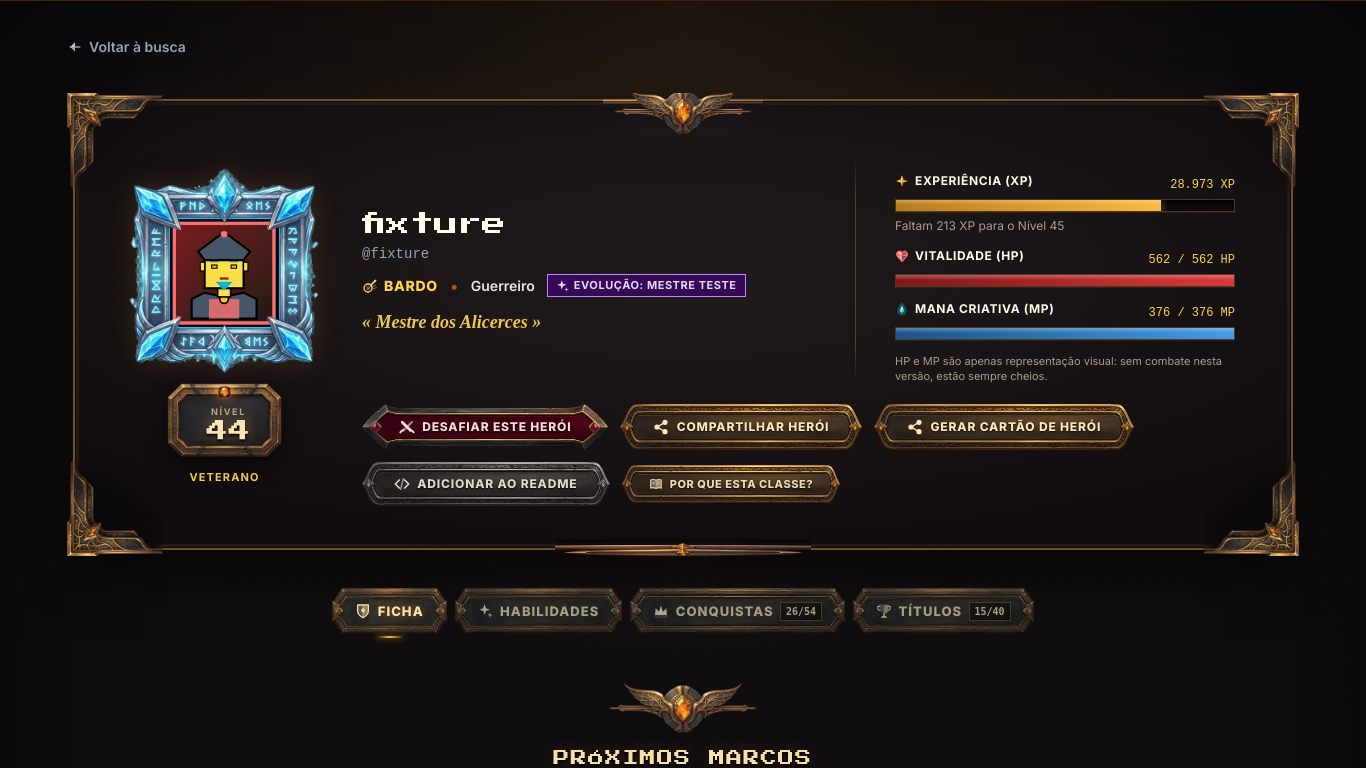
header and 'Por que esta classe?' share one V2 result › class + subclass + evolution: modal matches all three
Check: the text "Evolução: Mestre Teste" is shown, box [574,277,736,294]
Click the button "Por que esta classe?". click: {"x": 731, "y": 484}
box: [622,465,840,503]
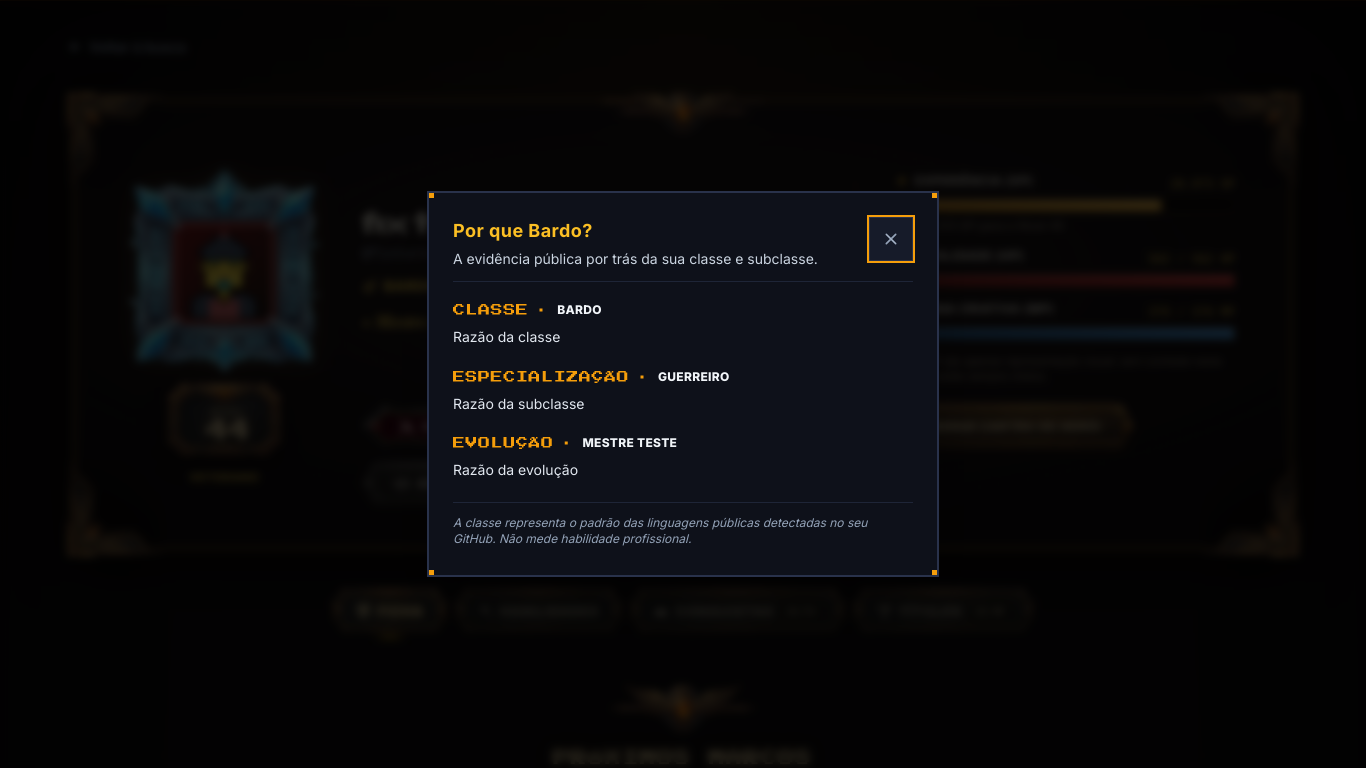
Check: the text "Razão da classe" is shown, box [453,328,560,345]
Check: the text "Guerreiro" is shown, box [658,369,730,385]
Check: the text "Mestre Teste" is shown, box [582,435,677,451]
